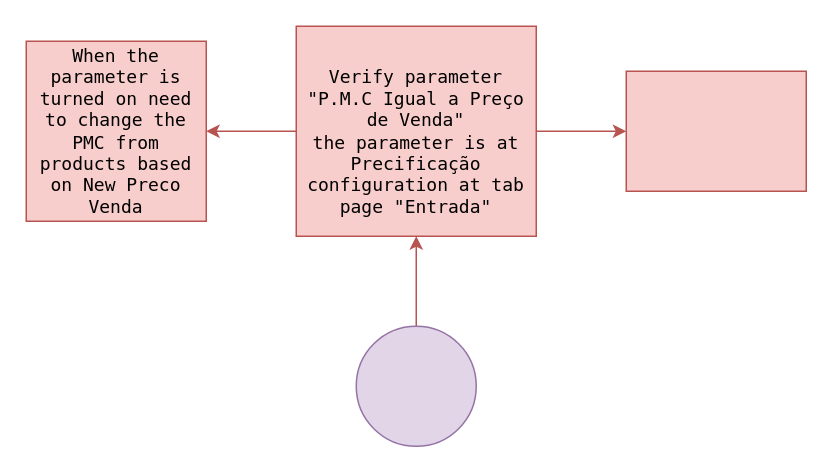
Some shapes in this 833 by 473 pixel diagram are drawn without their labels. The shapes that lost their labels are listed below. From the top down, each one's box as (x1, y1, x2, y2) in pixels, then its label:
(625, 70, 806, 191): When the parameter is turned off don't need to change anything
(355, 325, 476, 446): RFP-1268
